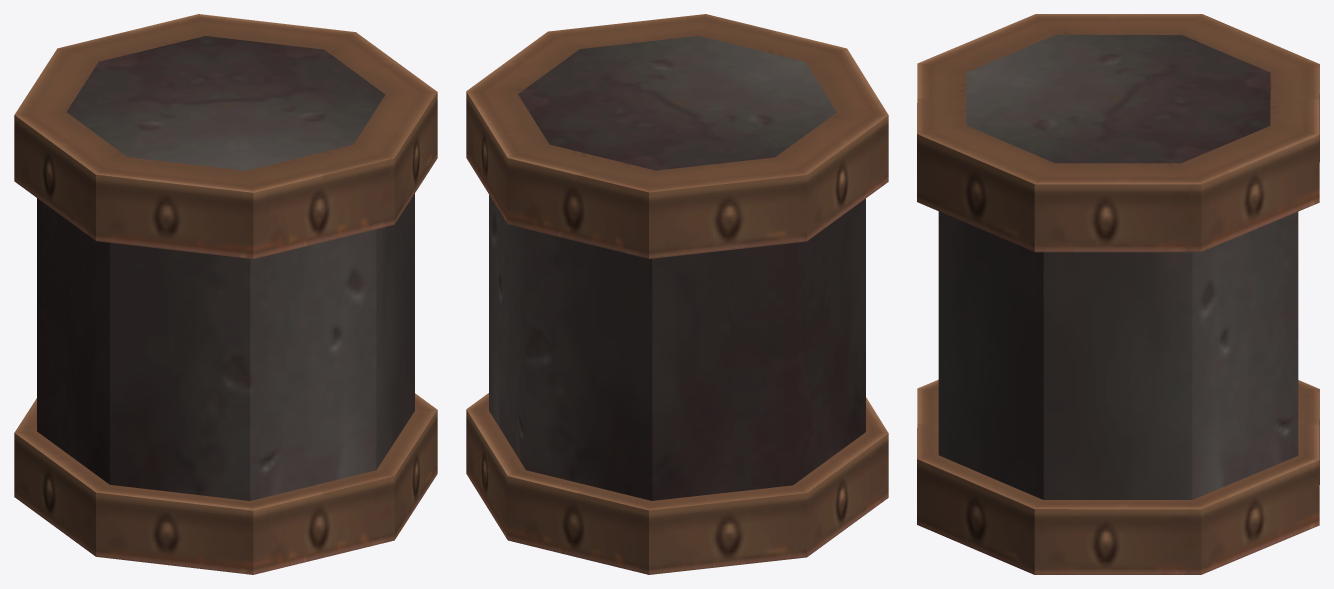
The model's file is sn_jixie_guolu_002.FBX.
3 views of the same model, side by side, from view 1: azimuth 30°, elevation 25°; view 2: azimuth 150°, elevation 25°; view 3: azimuth 270°, elevation 25° (orthographic). The views are drawn at different scales.
Parts seen in each view (by area): view 1: sn_jixie_guolu_002; view 2: sn_jixie_guolu_002; view 3: sn_jixie_guolu_002.
Part boxes in pixels (x1=…): sn_jixie_guolu_002: x1=14, y1=14, x2=437, y2=574; sn_jixie_guolu_002: x1=466, y1=14, x2=888, y2=574; sn_jixie_guolu_002: x1=917, y1=14, x2=1319, y2=574.
Bounding box in the file's own units: 4.92 × 4.92 × 5.27.
